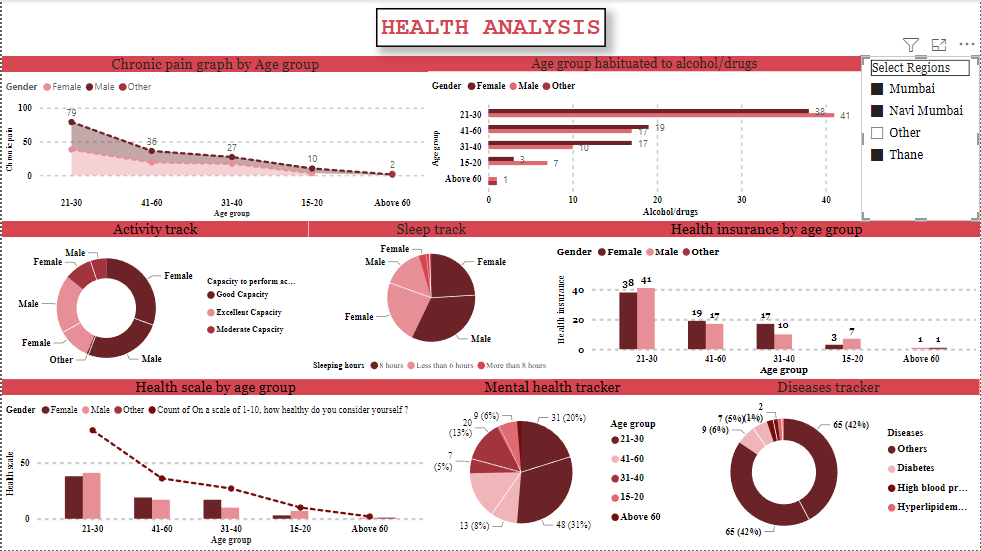

What the dashboard file says about the page in this screenshot:
{"tool":"powerbi","page":{"name":"Page 1","canvas":[1280,720],"ordinal":0},"visuals":[{"type":"clusteredColumnChart","title":"Health insurance by age group","fields":{"Series":["Health Analysis.Gender"],"Category":["Health Analysis.Age group"],"Y":["CountNonNull(Health Analysis.Do you have a health insurance ? )"]},"box":[721.3,289.5,558.7,206.6],"z":0},{"type":"slicer","fields":{"Values":["Health Analysis.Select your region of residence"]},"box":[1124.6,73.9,155.1,215.9],"z":1000},{"type":"lineClusteredColumnComboChart","title":"Health scale by age group","fields":{"Category":["Health Analysis.Age group"],"Series":["Health Analysis.Gender"],"Y":["CountNonNull(Health Analysis.On a scale of 1-10, how healthy do you consider yourself ?)"],"Y2":["CountNonNull(Health Analysis.On a scale of 1-10, how healthy do you consider yourself ?)"]},"box":[0,496.1,558.7,223.5],"z":2000},{"type":"stackedAreaChart","title":"Chronic pain graph by Age group ","fields":{"Category":["Health Analysis.Age group"],"Y":["CountNonNull(Health Analysis.Do you experience any chronic pain ?)"],"Series":["Health Analysis.Gender"]},"box":[0,73.4,558.3,216.1],"z":3000},{"type":"donutChart","title":"Activity track","fields":{"Category":["Health Analysis.In your opinion, at what capacity can you perform everyday activities ? "],"Series":["Health Analysis.Gender"],"Y":["CountNonNull(Health Analysis.Gender)"]},"box":[0,289.5,401.3,206.6],"z":4000},{"type":"clusteredBarChart","title":"Age group  habituated to alcohol/drugs","fields":{"Y":["CountNonNull(Health Analysis.Are you habituated to alcohol/drugs ?)"],"Series":["Health Analysis.Gender"],"Category":["Health Analysis.Age group"]},"box":[558.3,73.4,566.6,216.1],"z":5000},{"type":"pieChart","title":"Mental health tracker","fields":{"Category":["Health Analysis.Age group"],"Y":["CountNonNull(Health Analysis.Does your mental well being has an affect on your physical health ?)"],"Series":["Health Analysis.Does your mental well being has an affect on your physical health ?"]},"box":[558.3,495.9,325.5,223],"z":6000},{"type":"donutChart","title":"Diseases tracker","fields":{"Series":["Health Analysis.Gender"],"Category":["Health Analysis.Do you have any hereditary conditions/ diseases ?"],"Y":["CountNonNull(Health Analysis.Do you have any hereditary conditions/ diseases ?)"]},"box":[883.8,495.9,396.2,223],"z":7000},{"type":"pieChart","title":"Sleep track","fields":{"Category":["Health Analysis.How much hours of sleep do you get on a daily basis ? "],"Y":["CountNonNull(Health Analysis.Gender)"],"Series":["Health Analysis.Gender"]},"box":[401.3,289.5,320,206.6],"z":8000},{"type":"shape","box":[489,11.1,300.6,51.3],"z":9000}]}

Visuals, with their boxes in screenshot pixels (x1, y1, x2, y2), scaled from the page's 1280x720 canvas onto the 981x551 screenshot:
"Health insurance by age group" clusteredColumnChart: rect(553, 222, 980, 380)
slicer - Health Analysis.Select your region of residence: rect(862, 57, 980, 222)
"Health scale by age group" lineClusteredColumnComboChart: rect(0, 380, 428, 550)
"Chronic pain graph by Age group " stackedAreaChart: rect(0, 56, 428, 222)
"Activity track" donutChart: rect(0, 222, 308, 380)
"Age group  habituated to alcohol/drugs" clusteredBarChart: rect(428, 56, 862, 222)
"Mental health tracker" pieChart: rect(428, 380, 677, 550)
"Diseases tracker" donutChart: rect(677, 380, 980, 550)
"Sleep track" pieChart: rect(308, 222, 553, 380)
shape: rect(375, 8, 605, 48)
